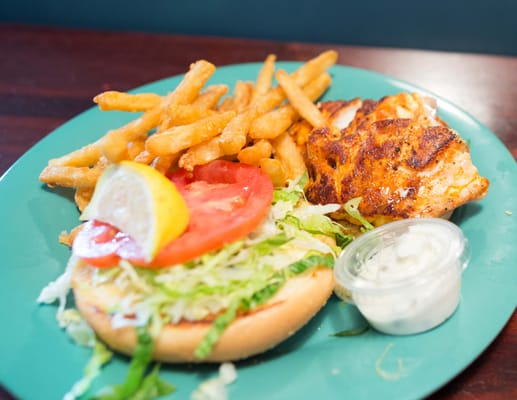curry: (4, 17, 516, 394)
